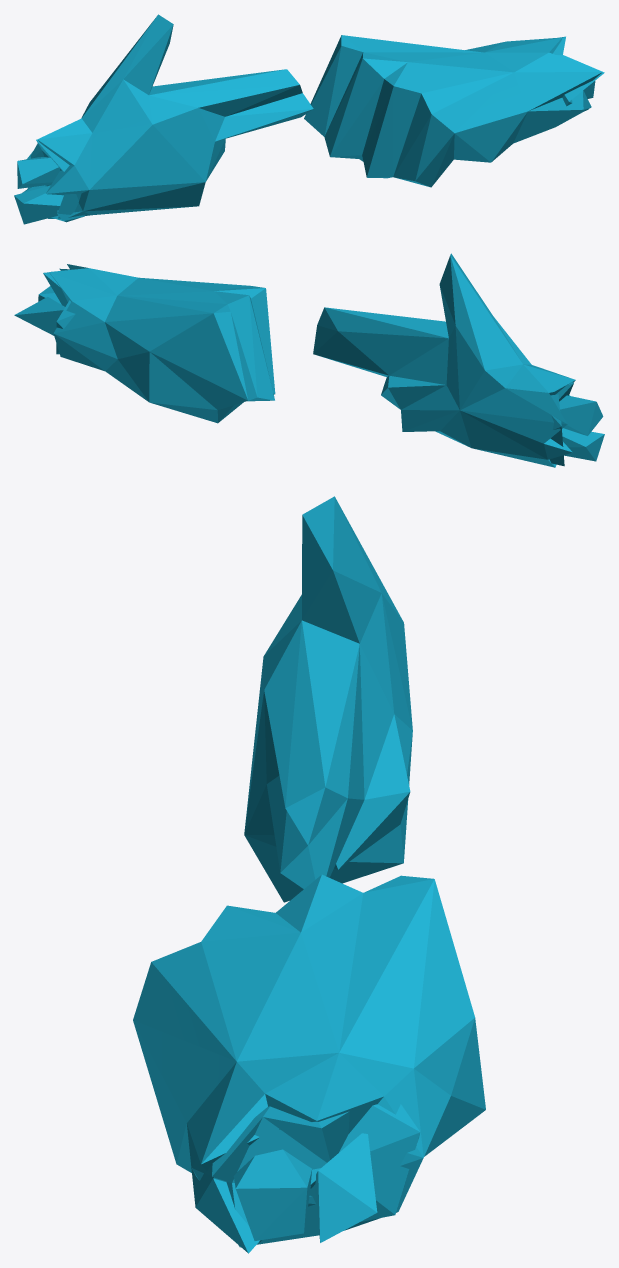
Rendered from rtj4d_explode.glb.
3 views of the same model, one above another, from view 1: azimuth 30°, elevation 25°; view 2: azimuth 150°, elevation 25°; view 3: azimuth 270°, elevation 25° (orthographic). The views are drawn at different scales.
Visible parts, largest first — view 1: frame_39; view 2: frame_39; view 3: frame_39.
Part boxes in pixels (left/top/right/bottom): frame_39: left=14, top=14, right=604, bottom=224; frame_39: left=14, top=253, right=604, bottom=467; frame_39: left=133, top=496, right=485, bottom=1253.
Bounding box in the file's own units: 2.01 × 0.7044 × 0.5405.
